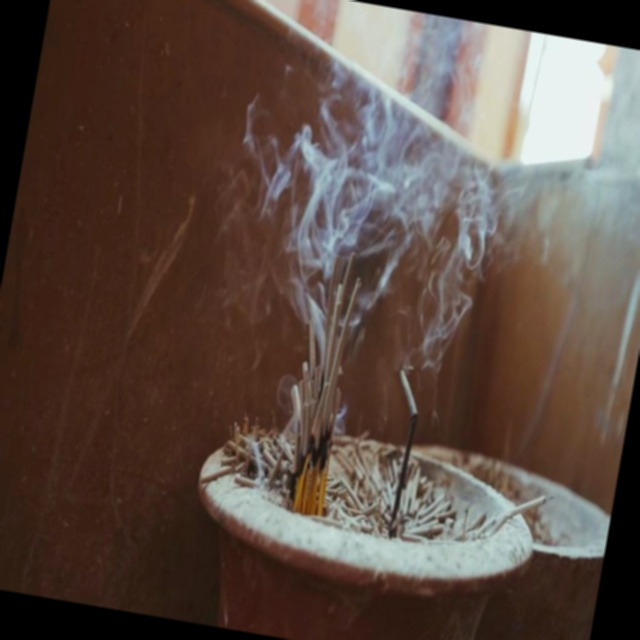smoke: (264, 77, 528, 321)
